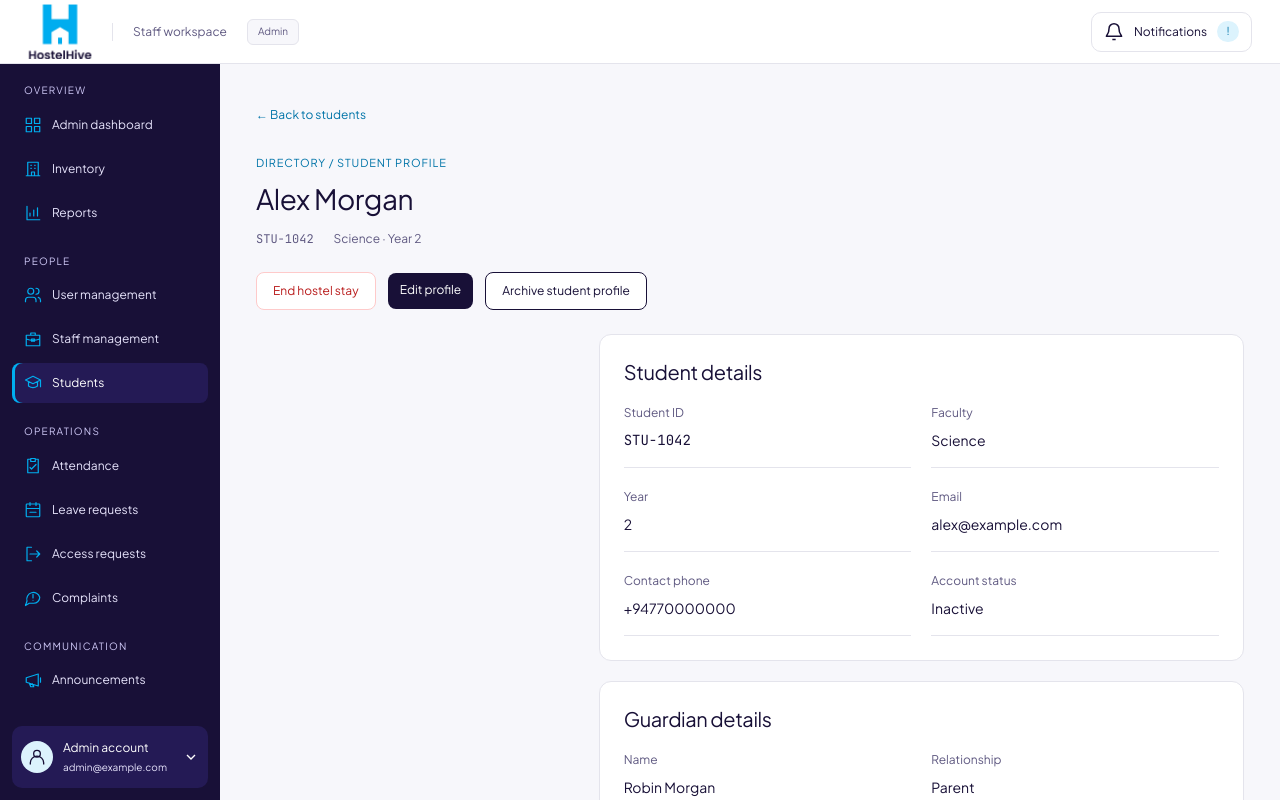
supports no-bed departures and explicitly preserving an inactive account
Click the button "End hostel stay".
click(316, 291)  # box [256,272,376,310]
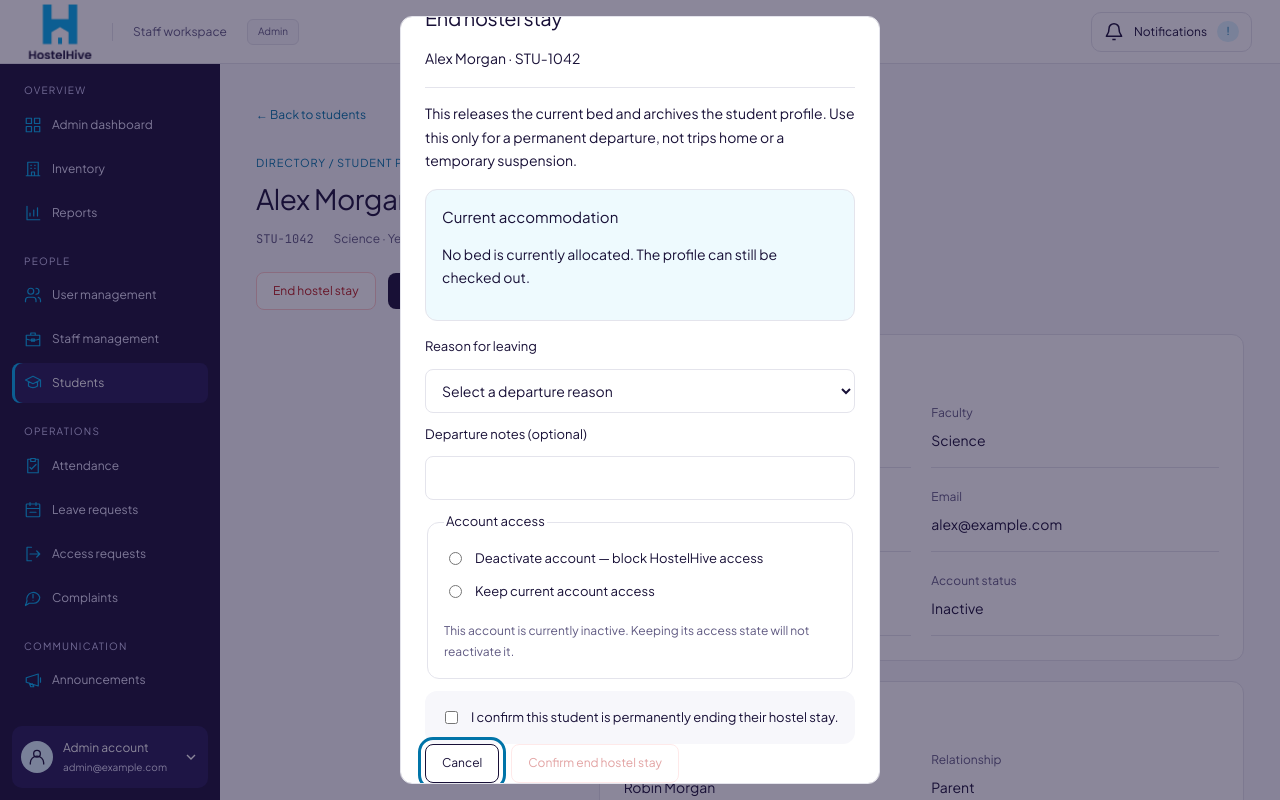
Expected: the text "No bed is currently allocated" is shown, [442,245,777,286]
Expected: the dropdown labelled "Reason for leaving" is enabled
Select "Graduated" in the dropdown labelled "Reason for leaving" at (640, 391), box [425,369,855,413]
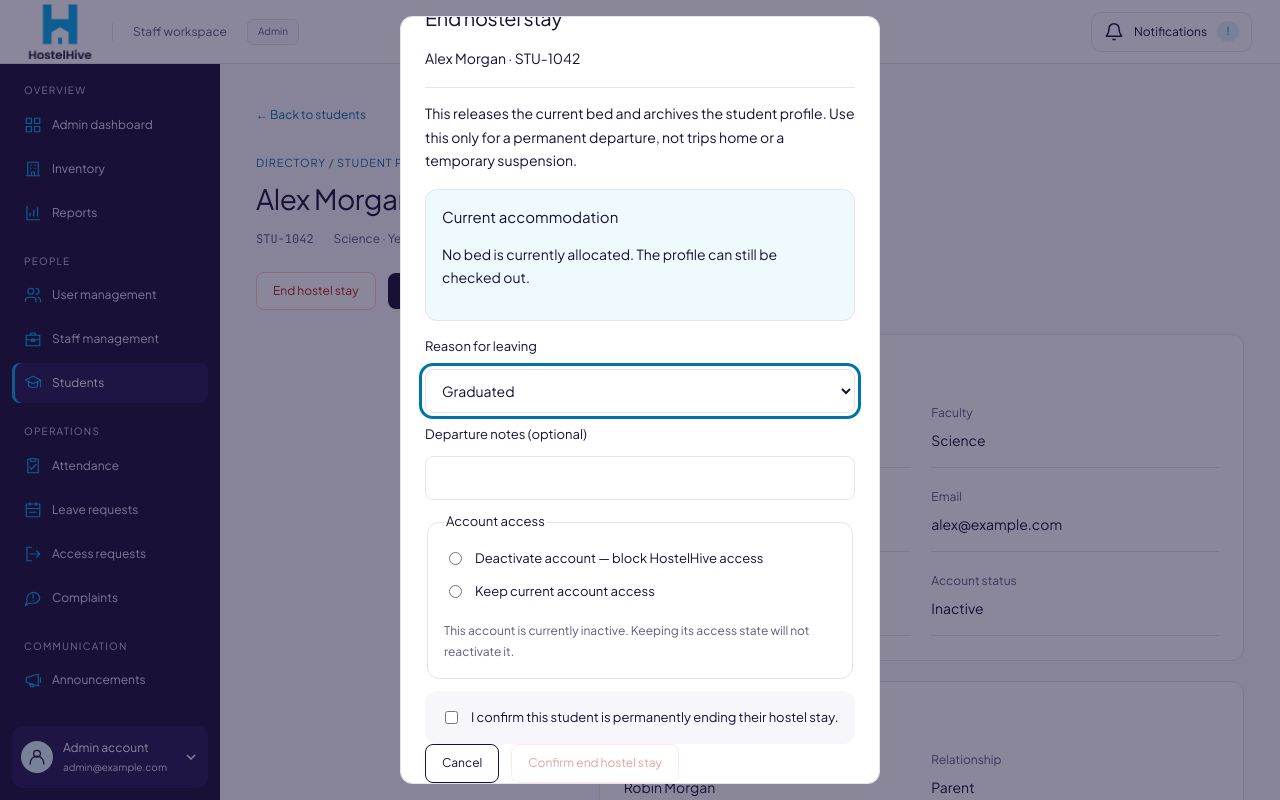
Type "Completed clearance" into the field labelled "Departure notes (optional)".
click(640, 478); type("Completed clearance")  # box [425,456,855,500]
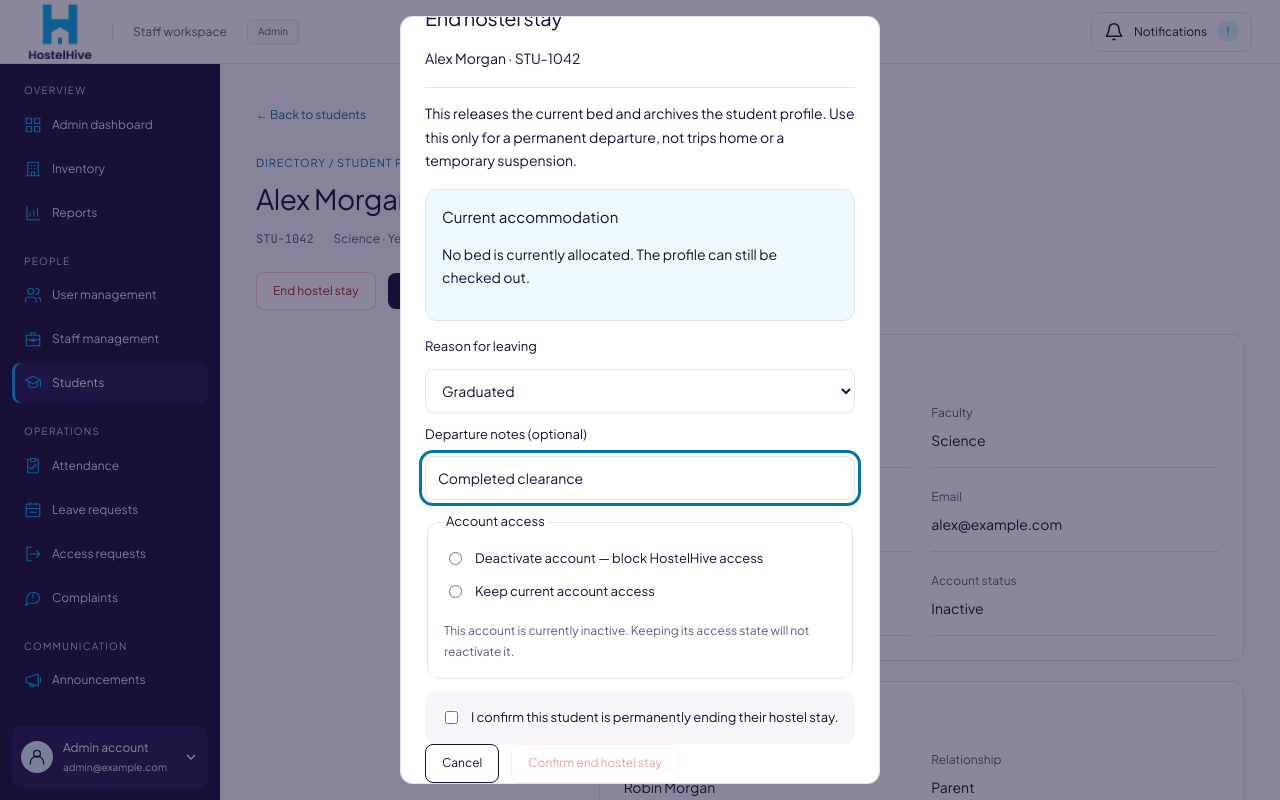
Click the radio button labelled "Keep current account access".
click(456, 591)  # box [449,585,462,598]
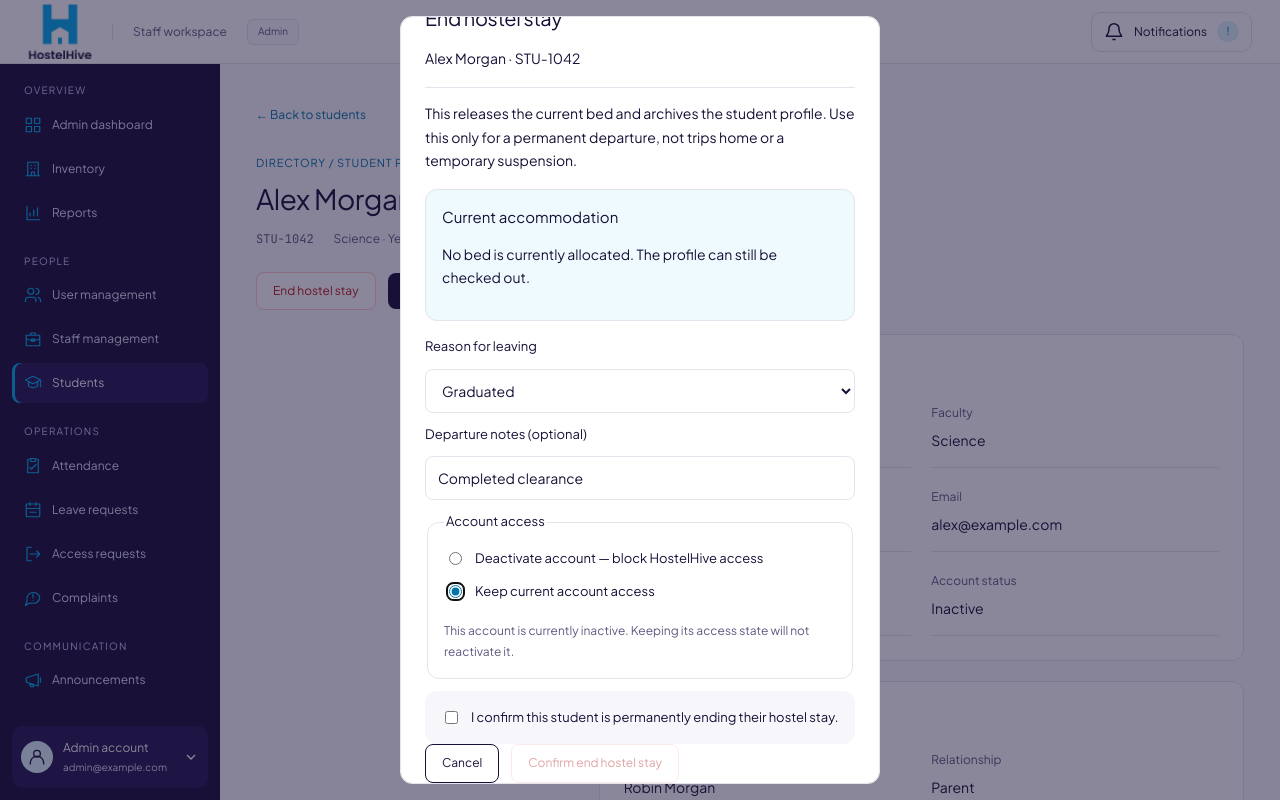
Click the checkbox labelled "I confirm this student".
click(452, 718)  # box [445,711,458,724]
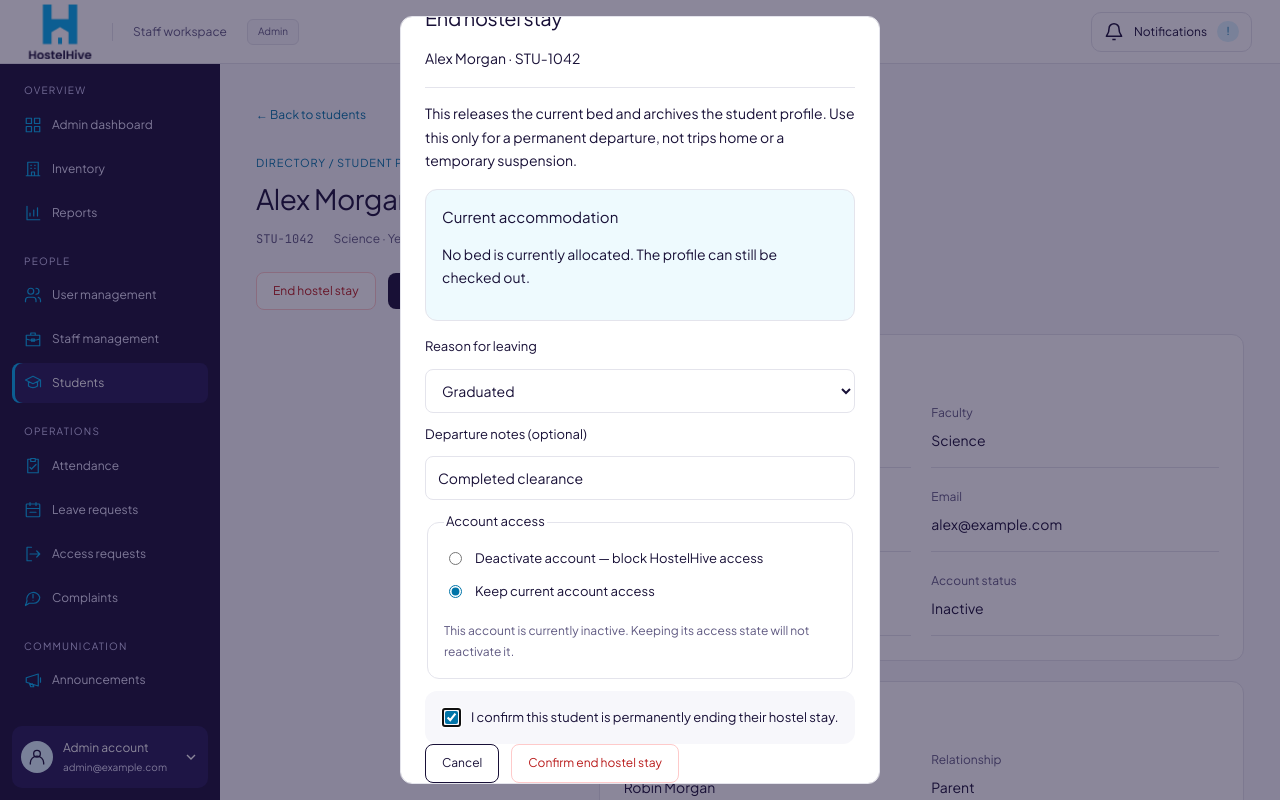
Click the button "Confirm end hostel stay".
click(595, 763)  # box [511,744,679,783]
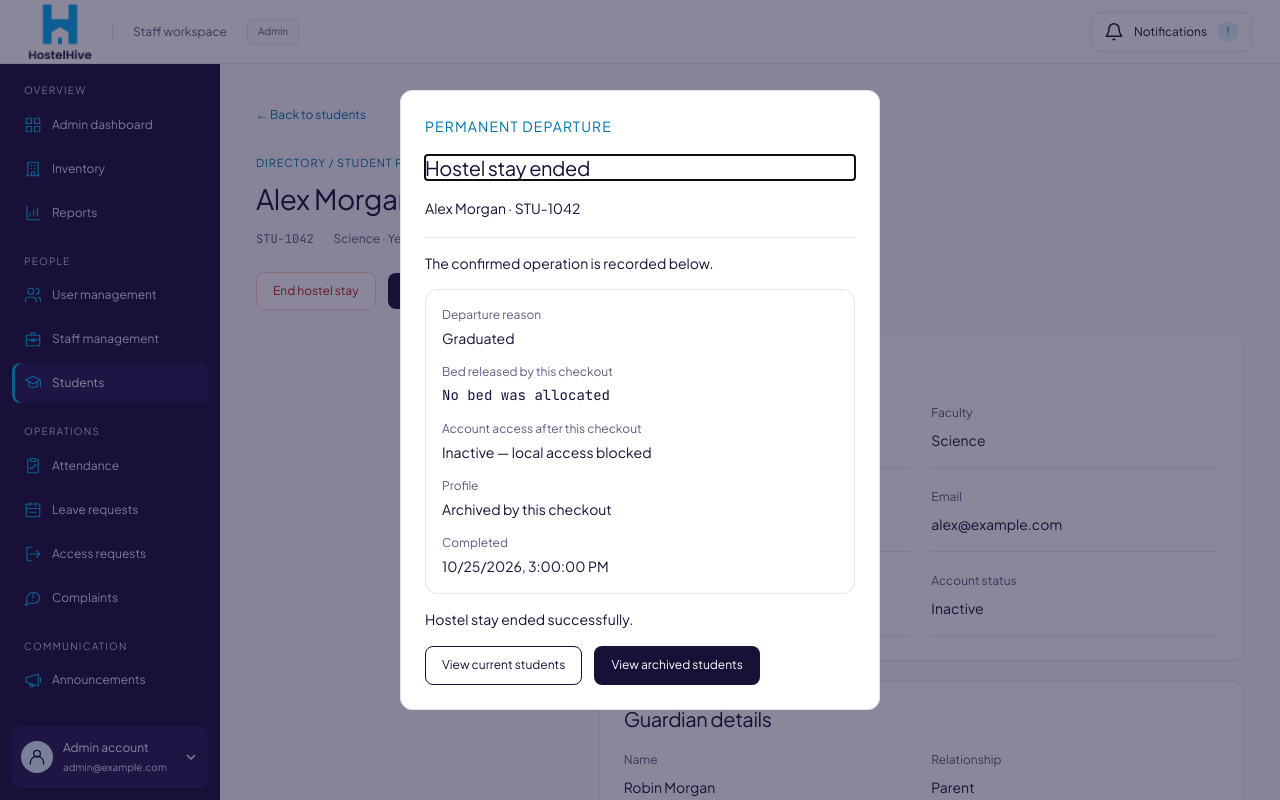
Expected: the text "No bed was allocated" is shown, [442,386,610,404]
